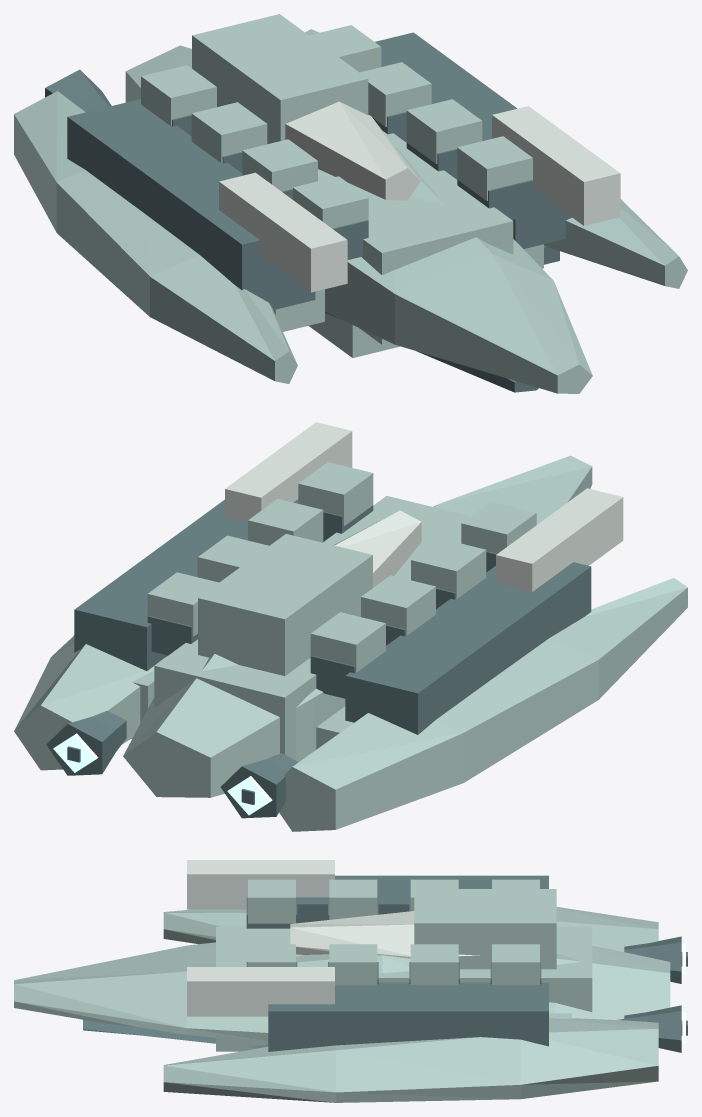
3 renders of one model, top to bottom at view 1: azimuth 30°, elevation 25°; view 2: azimuth 150°, elevation 25°; view 3: azimuth 270°, elevation 25°, orthographic. The views are drawn at different scales.
Bounding box in the file's own units: 16.68 × 6.6 × 26.51.
